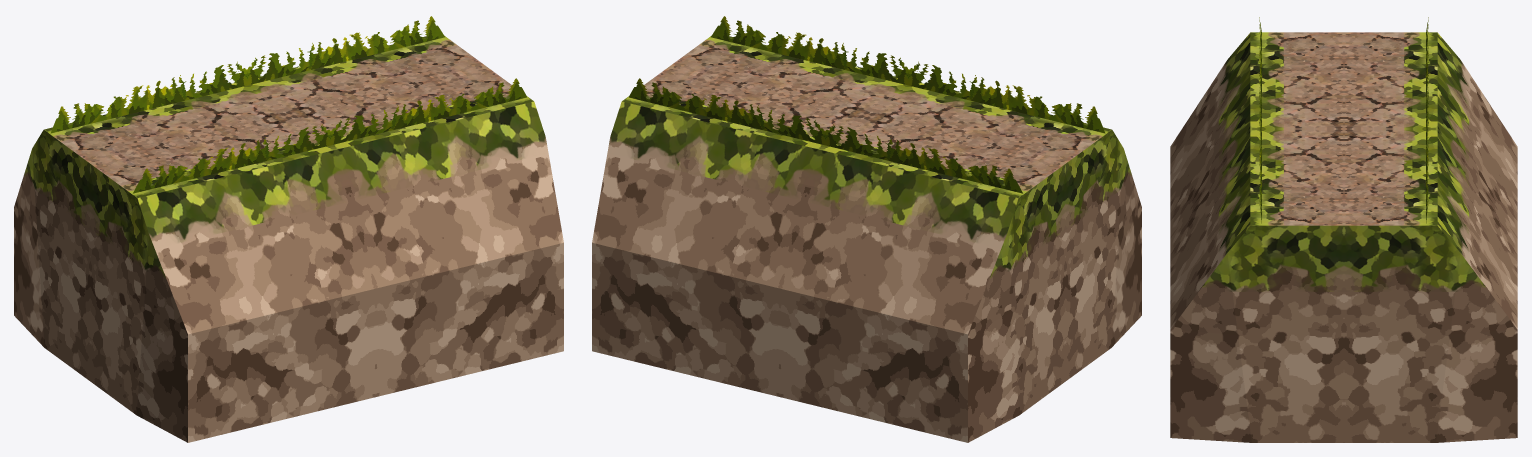
File: terreno_14.FBX
The picture shows the model from 3 angles, left to right: view 1: azimuth 30°, elevation 25°; view 2: azimuth 150°, elevation 25°; view 3: azimuth 270°, elevation 25°; orthographic projection.
Visible parts, largest first — view 1: Terreno015; view 2: Terreno015; view 3: Terreno015.
Boxes of the visible parts, x1,y1,x2,y2 form: Terreno015: (14,16,563,442); Terreno015: (592,16,1141,442); Terreno015: (1170,17,1517,442).
Size of the model in its own units: 3.8 by 2.88 by 2.22.
1 material, 1 textured.
